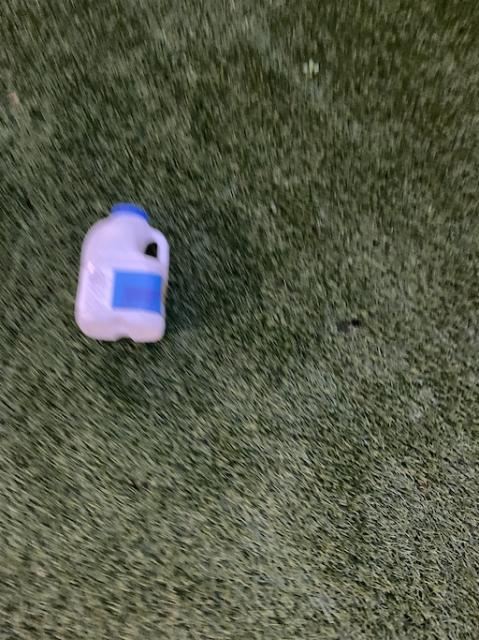plastic: (74, 202, 168, 340)
